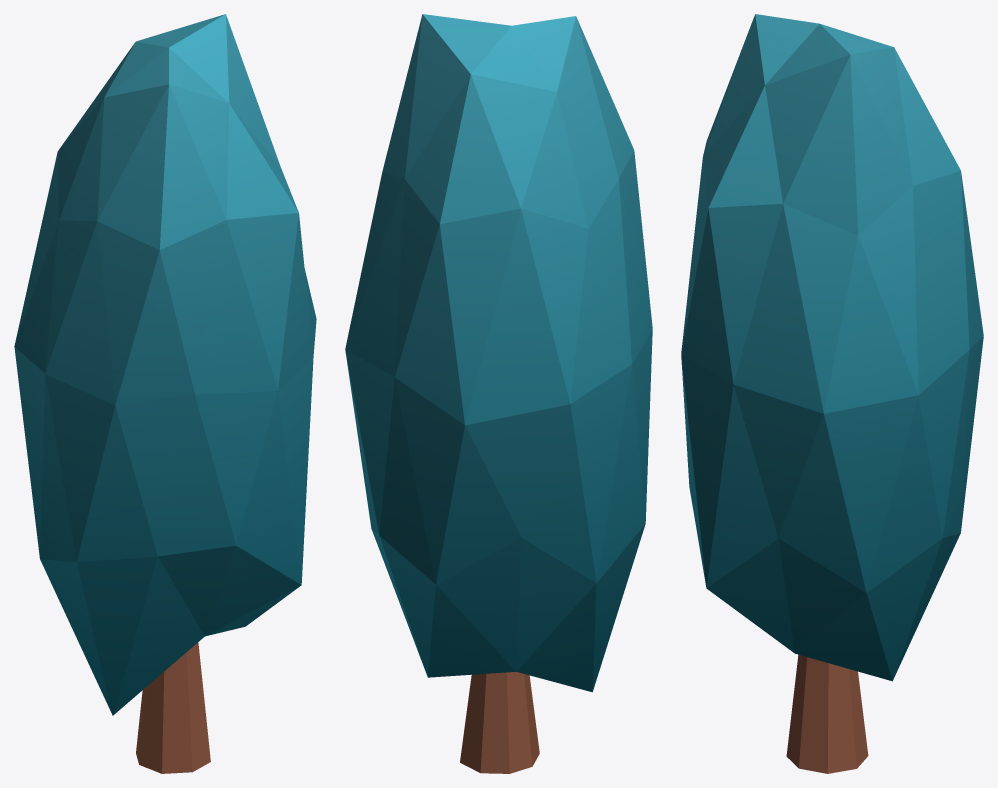
The model's file is Tree_05_gradient_blue.fbx.
3 renders of one model, left to right at view 1: azimuth 30°, elevation 25°; view 2: azimuth 150°, elevation 25°; view 3: azimuth 270°, elevation 25°, orthographic. The views are drawn at different scales.
Parts seen in each view (by area): view 1: Tree_05_gradient_blue; view 2: Tree_05_gradient_blue; view 3: Tree_05_gradient_blue.
Boxes of the visible parts, x1=… form: Tree_05_gradient_blue: x1=14, y1=14, x2=316, y2=773; Tree_05_gradient_blue: x1=345, y1=14, x2=652, y2=773; Tree_05_gradient_blue: x1=681, y1=14, x2=983, y2=773.
Bounding box in the file's own units: 104 × 266 × 99.25.
